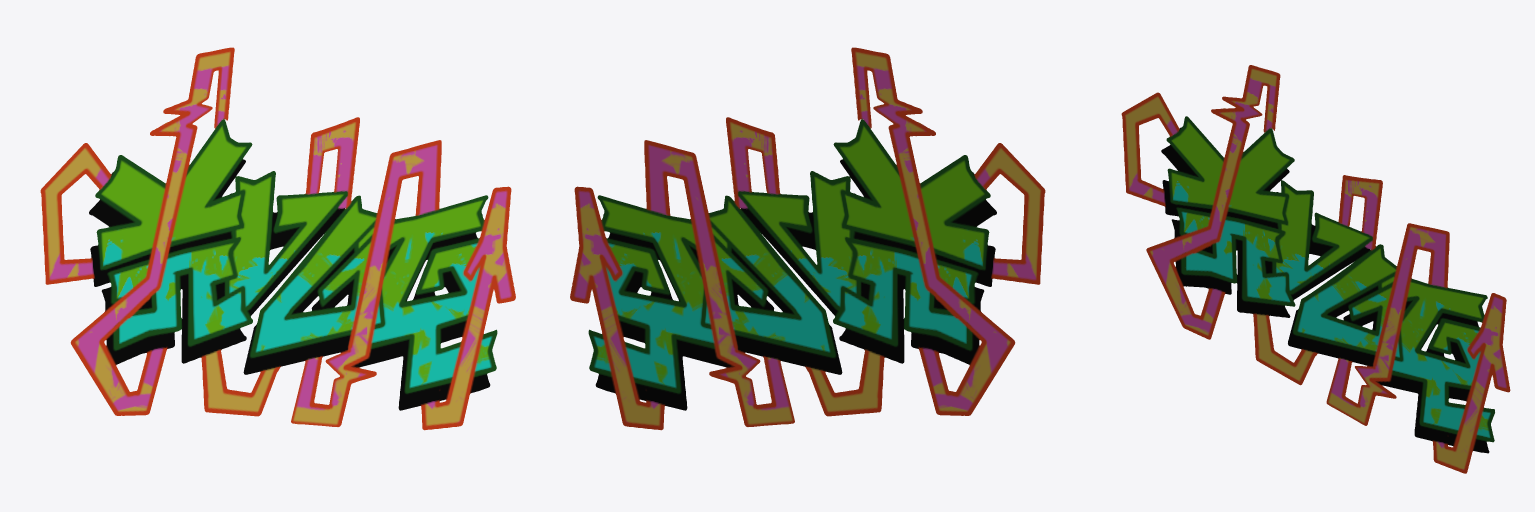
Rendered from SM_Decal_Graffiti_05.fbx.
3 views of the same model, side by side, from view 1: azimuth 30°, elevation 25°; view 2: azimuth 150°, elevation 25°; view 3: azimuth 330°, elevation 25° (orthographic). The views are drawn at different scales.
Parts seen in each view (by area): view 1: SM_Decal_Graffiti_05; view 2: SM_Decal_Graffiti_05; view 3: SM_Decal_Graffiti_05.
Part boxes in pixels (box(x1,y1,x2,y2)): SM_Decal_Graffiti_05: box(40, 47, 515, 430); SM_Decal_Graffiti_05: box(570, 47, 1045, 430); SM_Decal_Graffiti_05: box(1121, 65, 1510, 473).
Bounding box in the file's own units: 3.42 × 2.96 × 5.96e-10.
